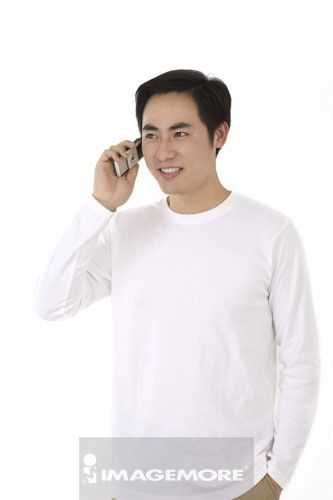talk: (88, 112, 200, 206)
